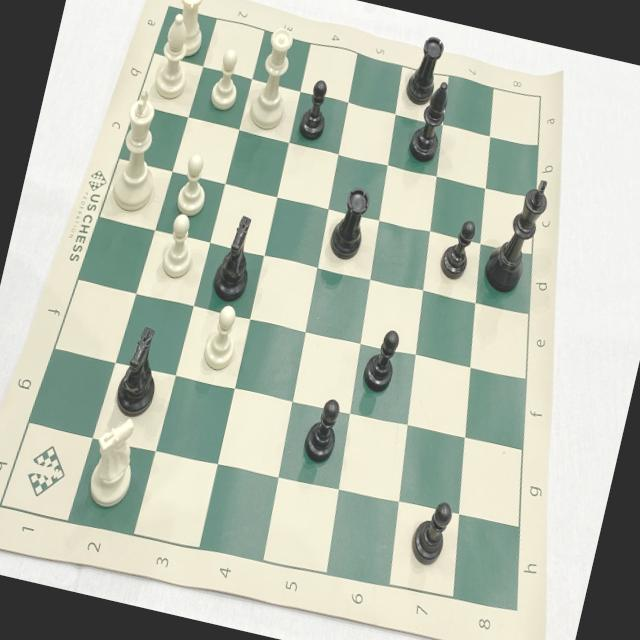black-bishop: (403, 70, 457, 170)
black-king: (478, 167, 556, 301)
black-knight: (107, 317, 173, 425), (205, 205, 268, 308)
black-pawn: (294, 388, 350, 472), (402, 494, 457, 576), (434, 211, 484, 289), (358, 320, 407, 399), (292, 73, 338, 148)
black-rook: (322, 180, 376, 268), (400, 24, 450, 111)
white-bishop: (144, 0, 207, 107)
white-king: (100, 83, 182, 221)
white-knight: (77, 408, 151, 516)
white-pawn: (195, 298, 248, 379), (154, 207, 206, 285), (168, 146, 218, 225), (202, 42, 250, 117)
white-queen: (243, 17, 309, 142)
white-rook: (163, 0, 216, 62)
